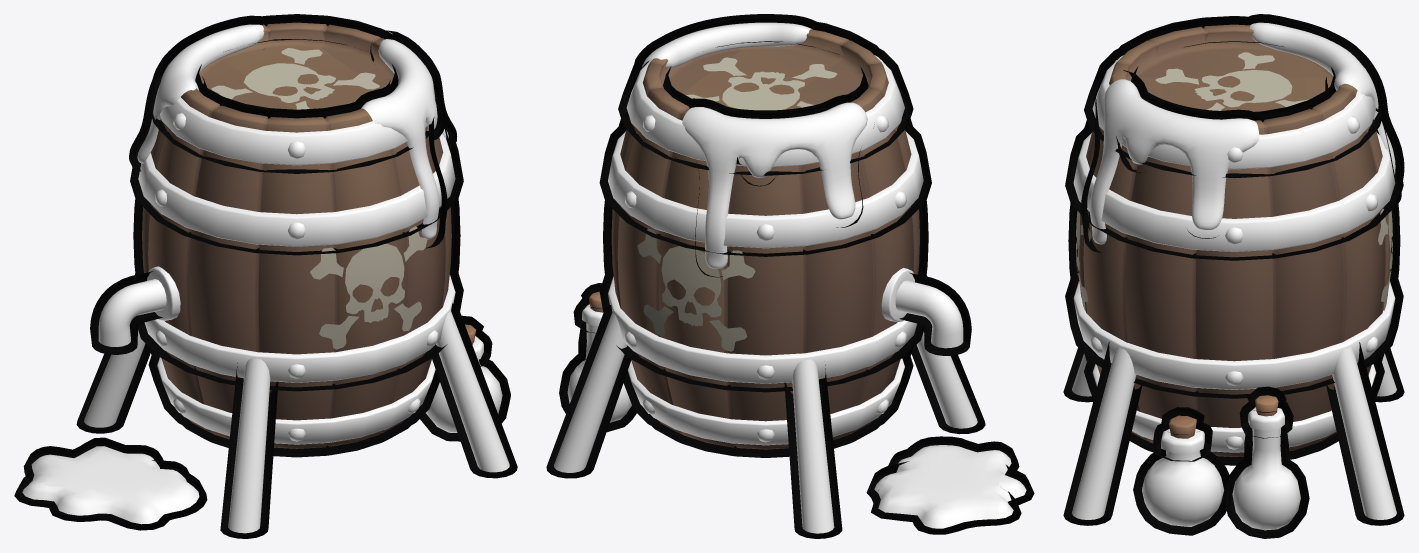
File: gizmo_poisonBarrel5.fbx
3 renders of one model, left to right at view 1: azimuth 30°, elevation 25°; view 2: azimuth 150°, elevation 25°; view 3: azimuth 270°, elevation 25°, orthographic.
Visible parts, largest first — view 1: psnBarrel_Mesh2; view 2: psnBarrel_Mesh2; view 3: psnBarrel_Mesh2.
Part boxes in pixels (left/top/right/bottom): psnBarrel_Mesh2: left=14, top=14, right=517, bottom=538; psnBarrel_Mesh2: left=546, top=14, right=1034, bottom=538; psnBarrel_Mesh2: left=1063, top=14, right=1404, bottom=538.
Bounding box in the file's own units: 426 × 354 × 275.
